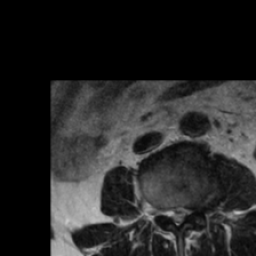CCS_stenosis: (174, 203, 182, 227)
LFS_severe_stenosis: (190, 202, 198, 222)
LLS_severe_stenosis: (182, 201, 190, 226)
RFS_stenosis: (158, 201, 166, 222)
RLS_stenosis: (167, 202, 175, 226)
